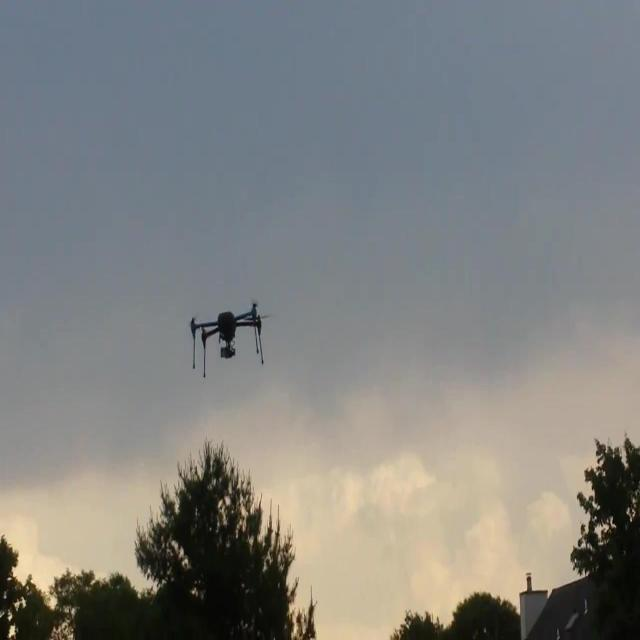drone: (189, 299, 268, 377)
